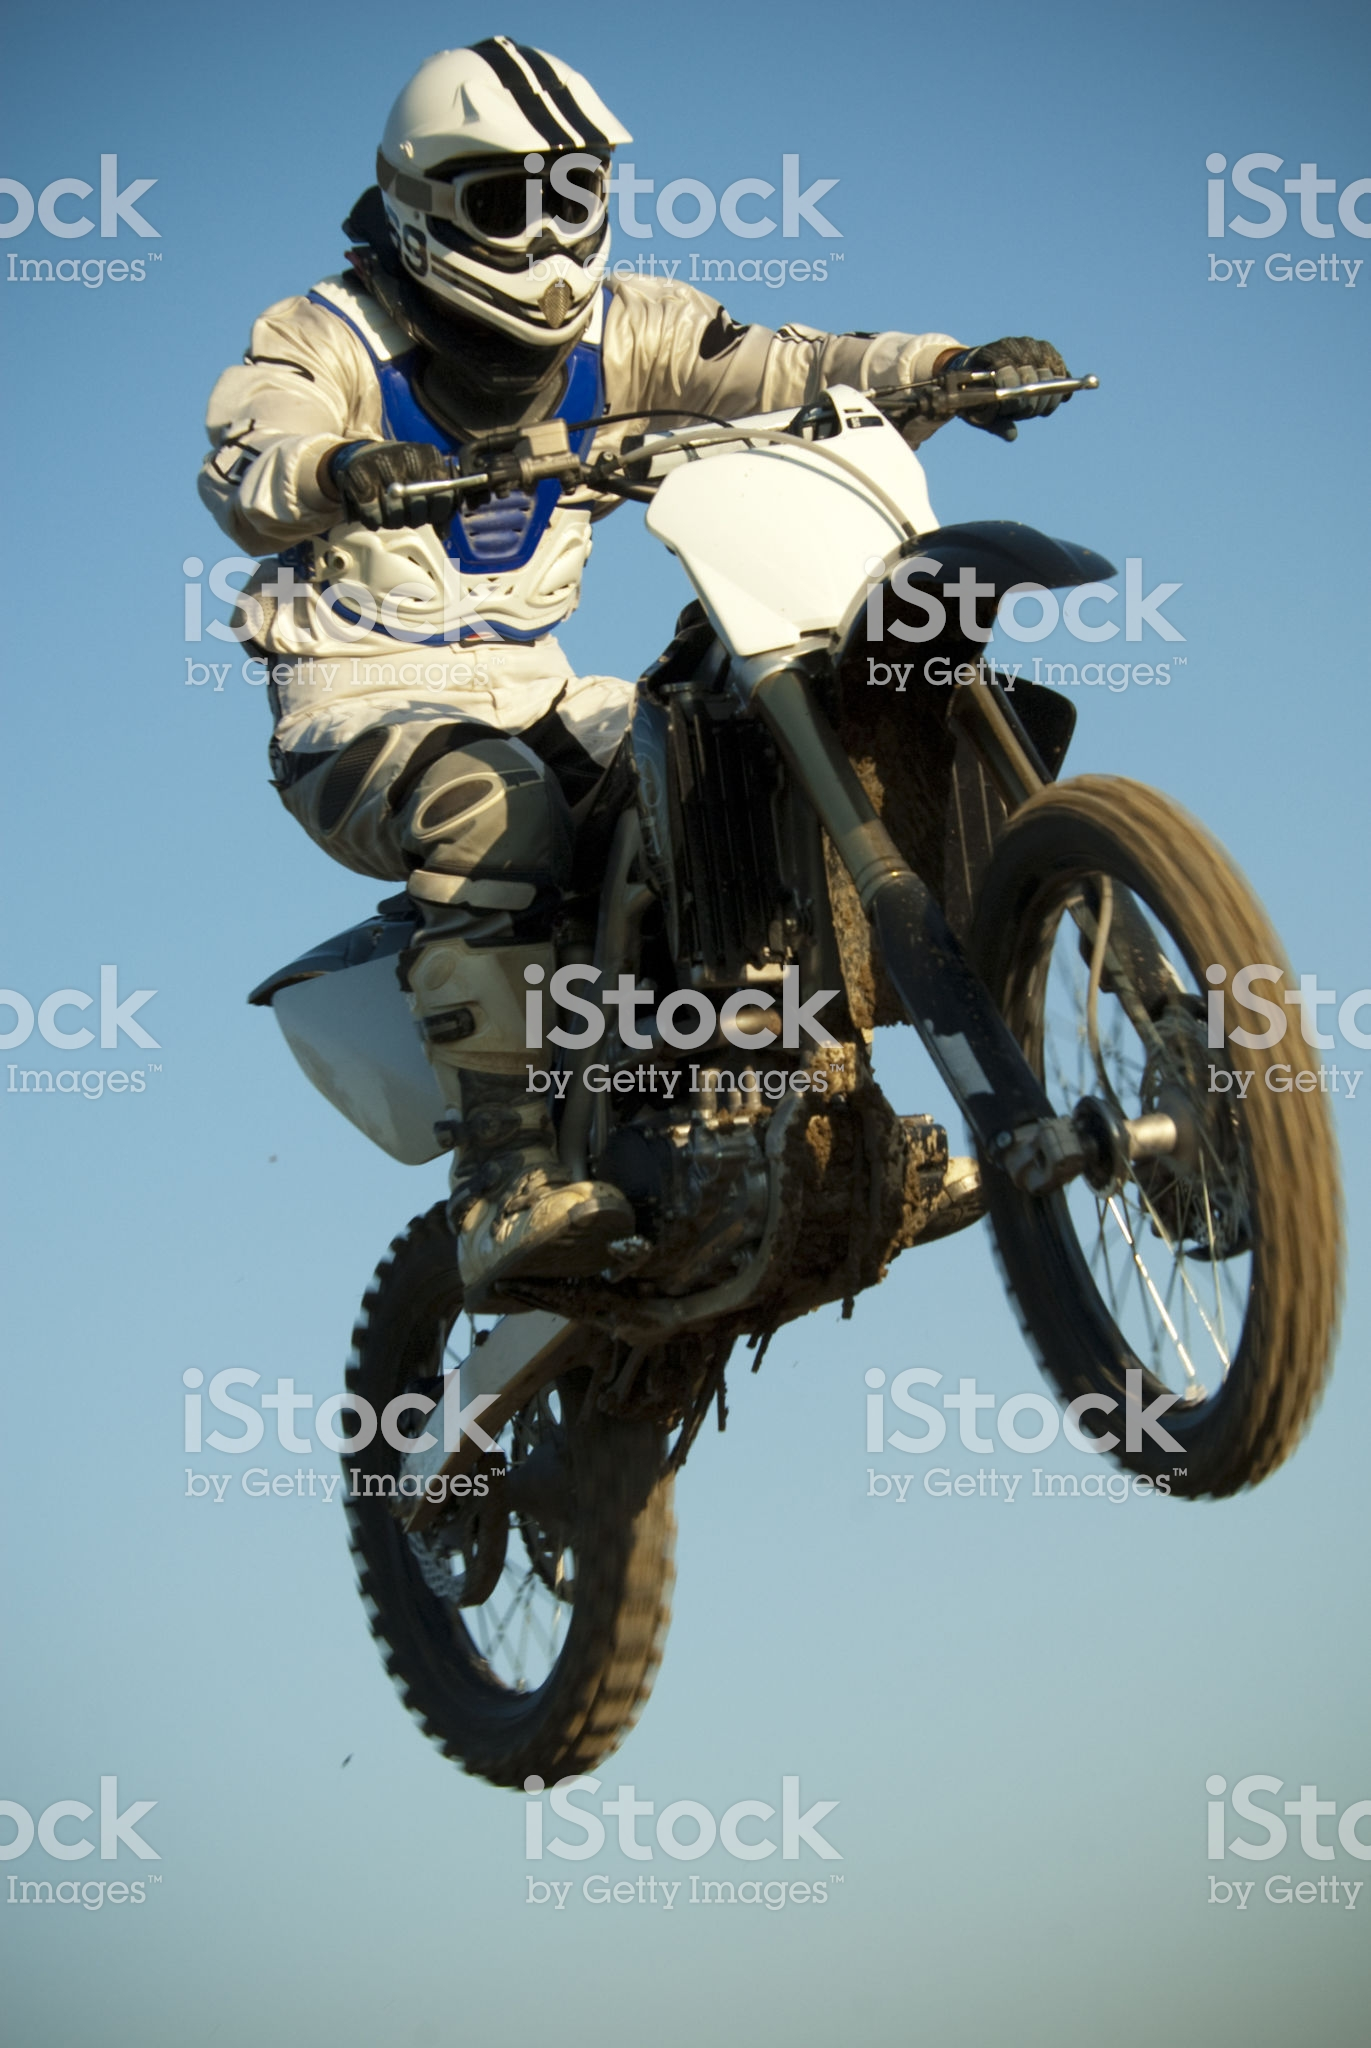helmet: (357, 31, 635, 353)
